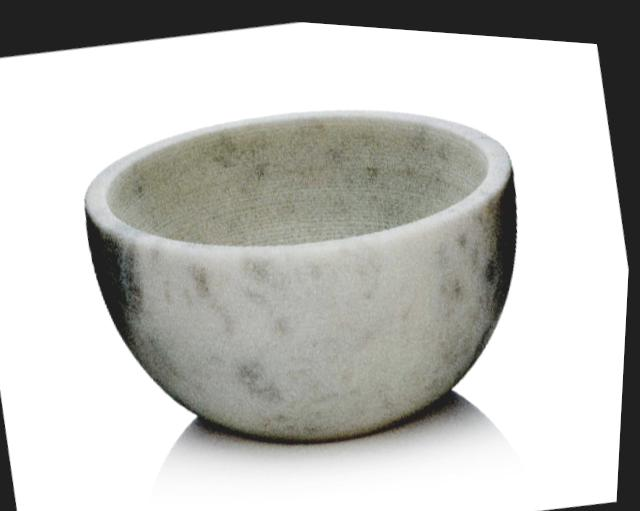Bowl: (84, 110, 516, 443)
